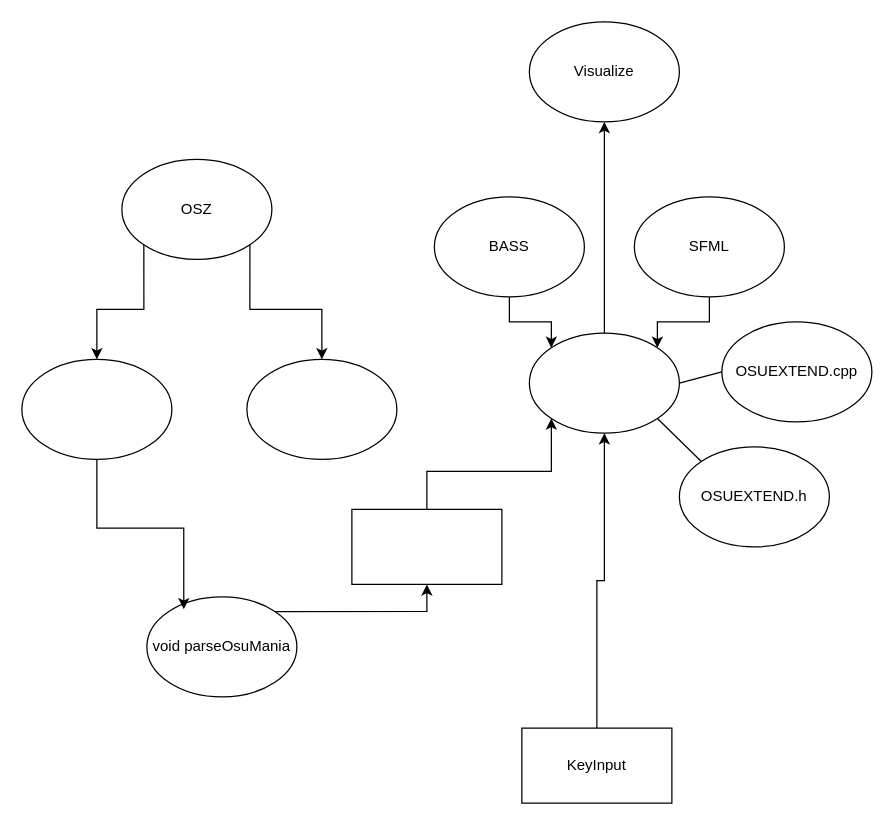
This 894x825 diagram has some shape labels left out. Here are the shapes that lost their labels. From the top down, the centre of each, then its label:
At pixel 603 382: "osumain.cpp".
At pixel 96 408: "OSU".
At pixel 321 408: "MP3".
At pixel 426 546: "Parsing".
